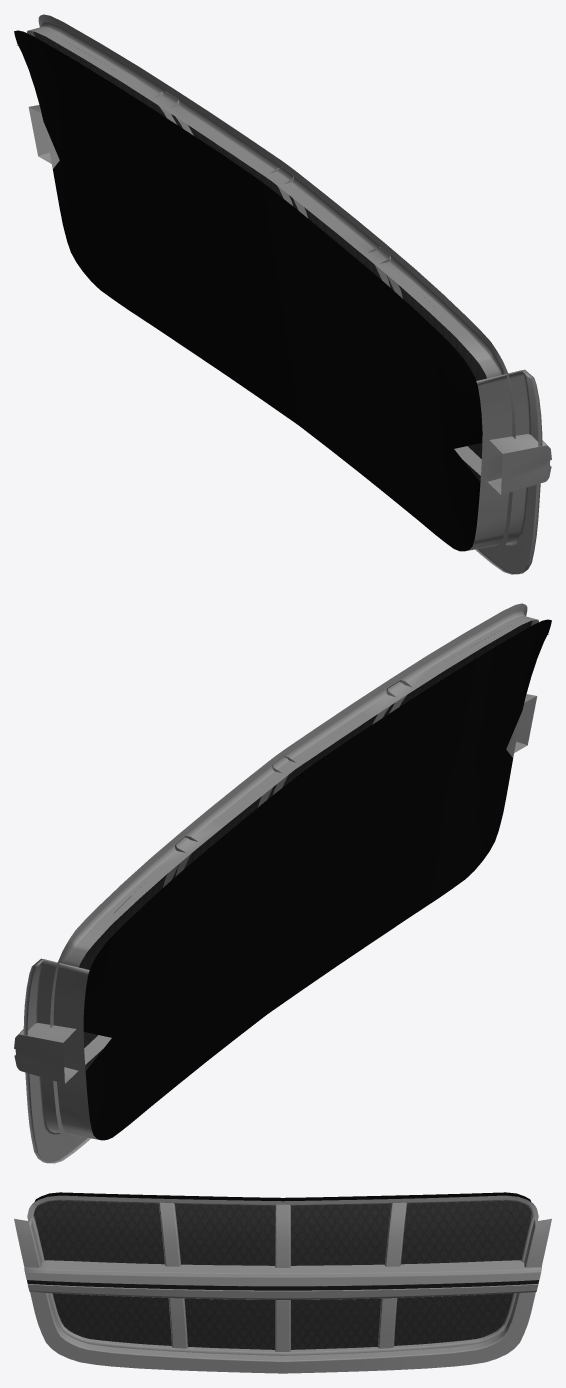
The picture shows the model from 3 angles, top to bottom: view 1: azimuth 30°, elevation 25°; view 2: azimuth 150°, elevation 25°; view 3: azimuth 270°, elevation 25°; orthographic projection. The views are drawn at different scales.
Parts seen in each view (by area): view 1: U803_3A_041B_C_U803_3A_041B_C_3_D, U803_3A_041B_C_1_DaS_U803_3A_041B_C, U803_3A_041B_C_U803_3A_041B_C_2_D; view 2: U803_3A_041B_C_U803_3A_041B_C_3_D, U803_3A_041B_C_1_DaS_U803_3A_041B_C, U803_3A_041B_C_U803_3A_041B_C_2_D; view 3: U803_3A_041B_C_U803_3A_041B_C_2_D, U803_3A_041B_C_1_DaS_U803_3A_041B_C, U803_3A_041B_C_U803_3A_041B_C_3_D.
Boxes of the visible parts, bbox=[...] form: U803_3A_041B_C_U803_3A_041B_C_3_D: bbox=[14, 30, 482, 551]; U803_3A_041B_C_1_DaS_U803_3A_041B_C: bbox=[16, 14, 551, 574]; U803_3A_041B_C_U803_3A_041B_C_2_D: bbox=[33, 31, 486, 481]; U803_3A_041B_C_U803_3A_041B_C_3_D: bbox=[83, 619, 551, 1140]; U803_3A_041B_C_1_DaS_U803_3A_041B_C: bbox=[14, 603, 549, 1163]; U803_3A_041B_C_U803_3A_041B_C_2_D: bbox=[79, 620, 532, 1070]; U803_3A_041B_C_U803_3A_041B_C_2_D: bbox=[34, 1200, 531, 1349]; U803_3A_041B_C_1_DaS_U803_3A_041B_C: bbox=[14, 1195, 551, 1373]; U803_3A_041B_C_U803_3A_041B_C_3_D: bbox=[34, 1192, 531, 1201].
Size of the model in its own units: 12.74 by 32.66 by 101.
